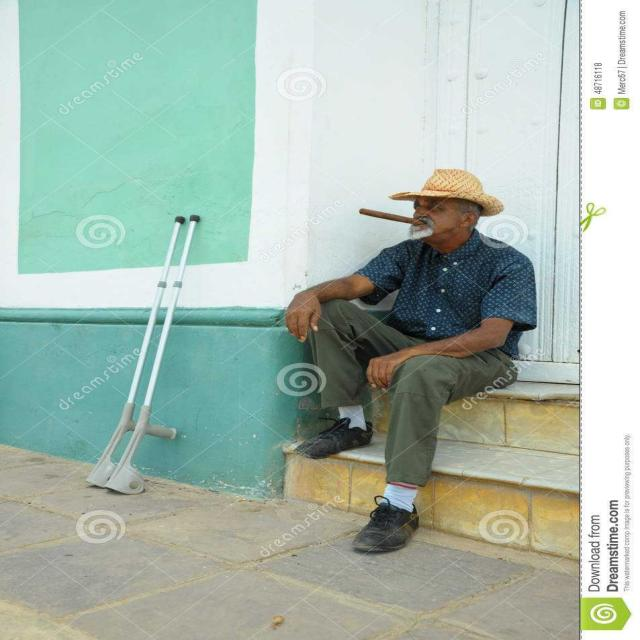Smooking: (354, 197, 422, 232)
